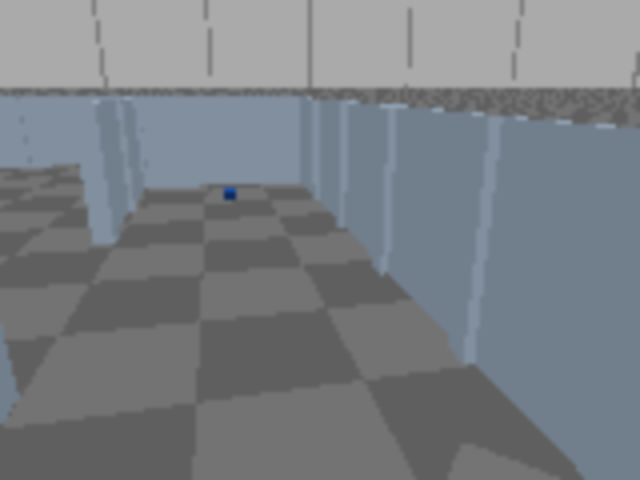obstacle: (394, 441, 638, 478)
